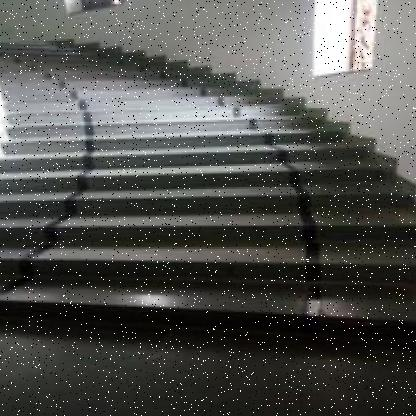stair_up: (35, 154, 326, 340)
